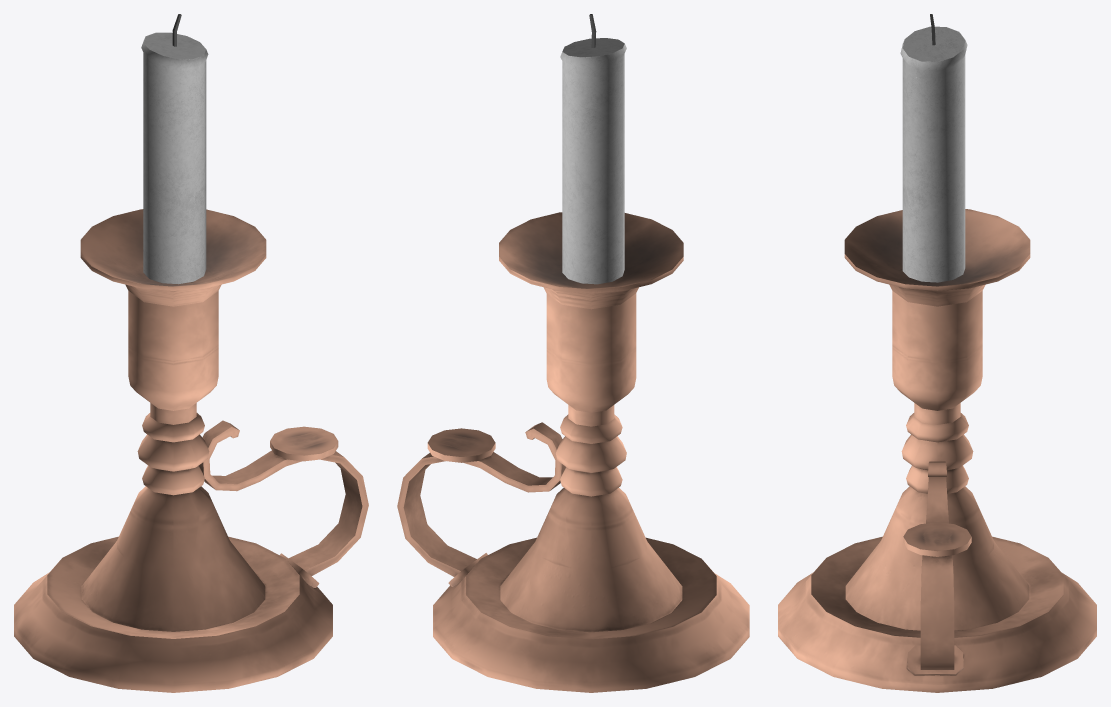
Rendered from candle.obj.
The picture shows the model from 3 angles, left to right: view 1: azimuth 30°, elevation 25°; view 2: azimuth 150°, elevation 25°; view 3: azimuth 270°, elevation 25°; orthographic projection.
Parts seen in each view (by area): view 1: Candle; view 2: Candle; view 3: Candle.
Part boxes in pixels (x1,y1,x2,y2): Candle: (14, 14, 368, 692); Candle: (397, 14, 749, 692); Candle: (778, 14, 1096, 692).
Bounding box in the file's own units: 16.39 × 29.28 × 13.83.
1 material, 1 textured.
